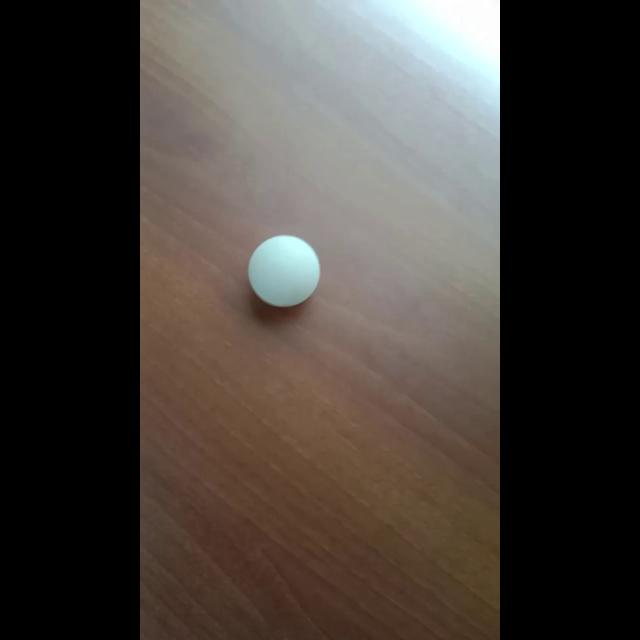white ball: (247, 234, 321, 308)
